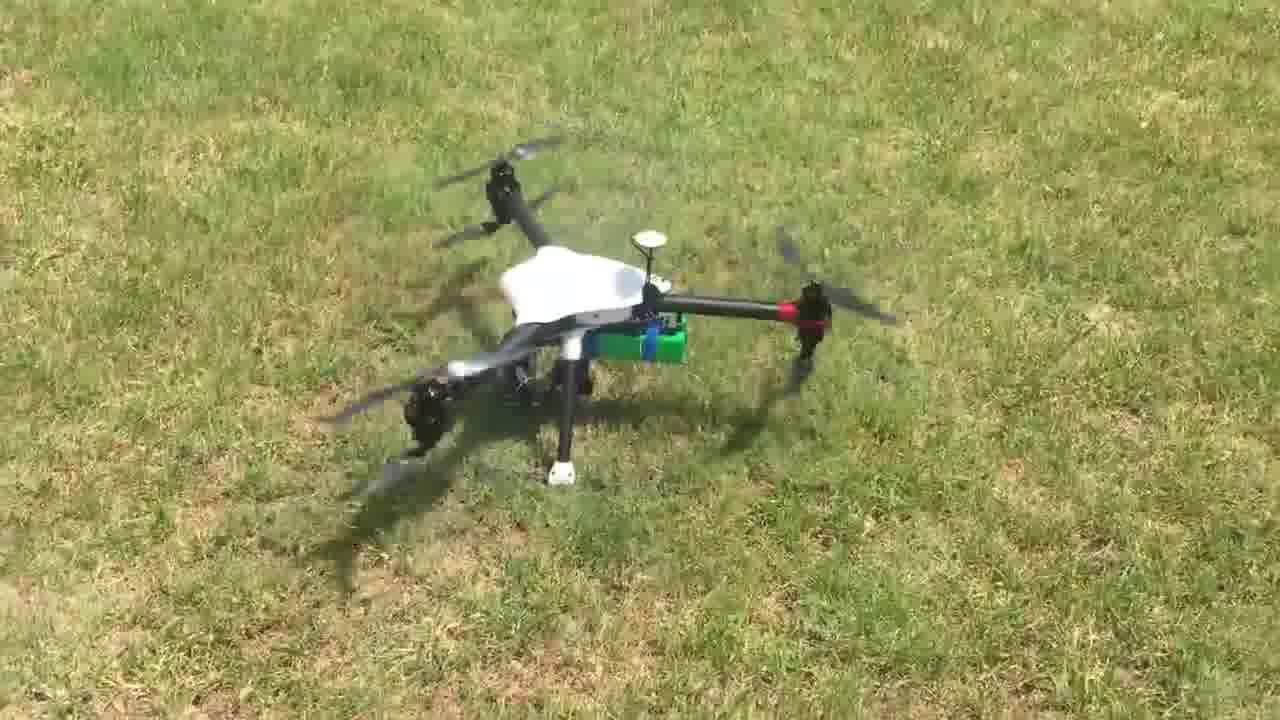drone: (305, 112, 905, 524)
